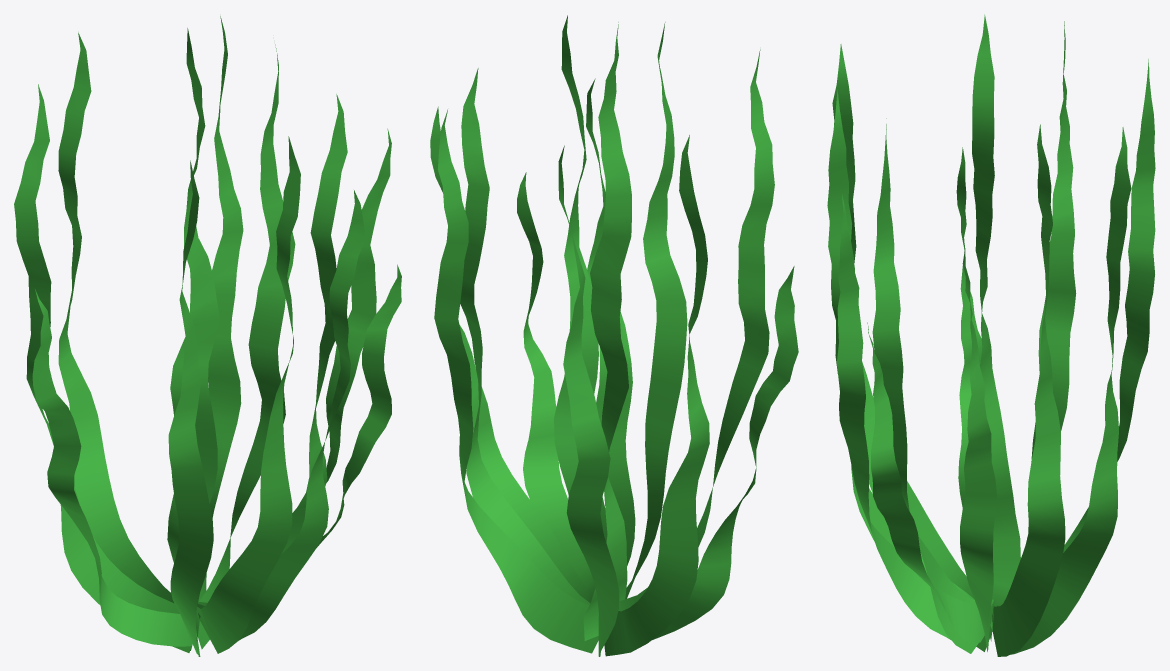
File: coral_kelp_crown_A_dense.fbx
3 renders of one model, left to right at view 1: azimuth 30°, elevation 25°; view 2: azimuth 150°, elevation 25°; view 3: azimuth 270°, elevation 25°, orthographic.
Visible parts, largest first — view 1: coral_kelp_crown_A_dense; view 2: coral_kelp_crown_A_dense; view 3: coral_kelp_crown_A_dense.
Part boxes in pixels (x1,y1,x2,y2): coral_kelp_crown_A_dense: (14,16,401,656); coral_kelp_crown_A_dense: (430,15,798,656); coral_kelp_crown_A_dense: (827,14,1155,656).
Bounding box in the file's own units: 87.84 × 146 × 68.75.
